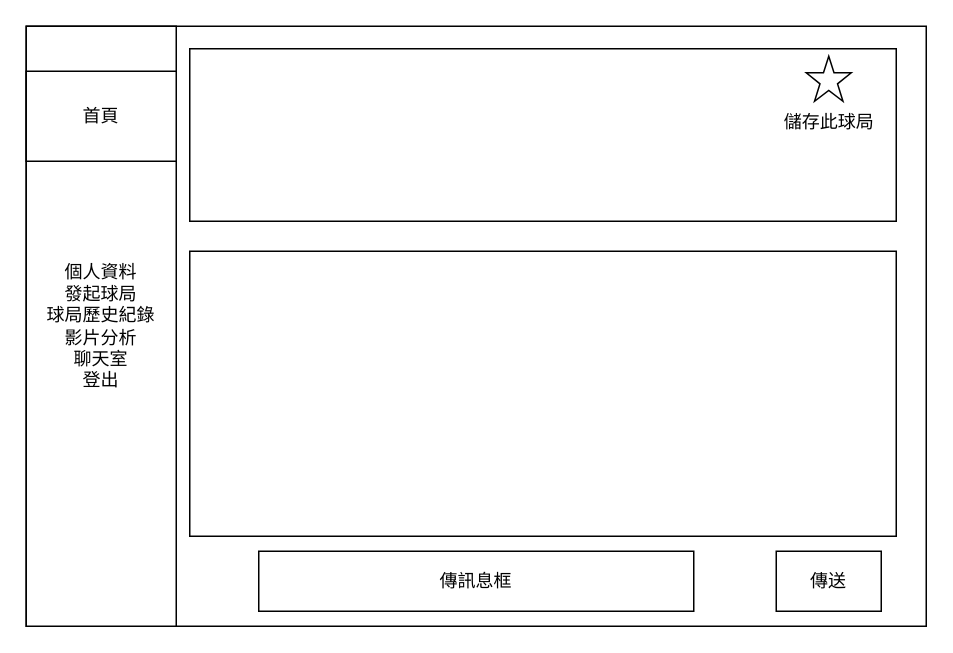
Some shapes in this 953 by 653 pixel diagram are drawn without their labels. Each missing label, with the box of its shape:
球局資訊(代號 發起人 球局名稱 球場 注意事項 開始時間): (188, 47, 896, 221)
留言板: (188, 250, 896, 536)
